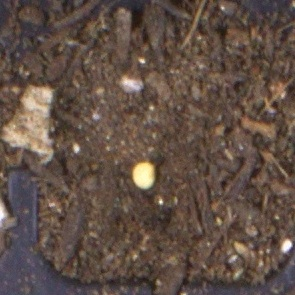chilli seed: (131, 161, 156, 191)
